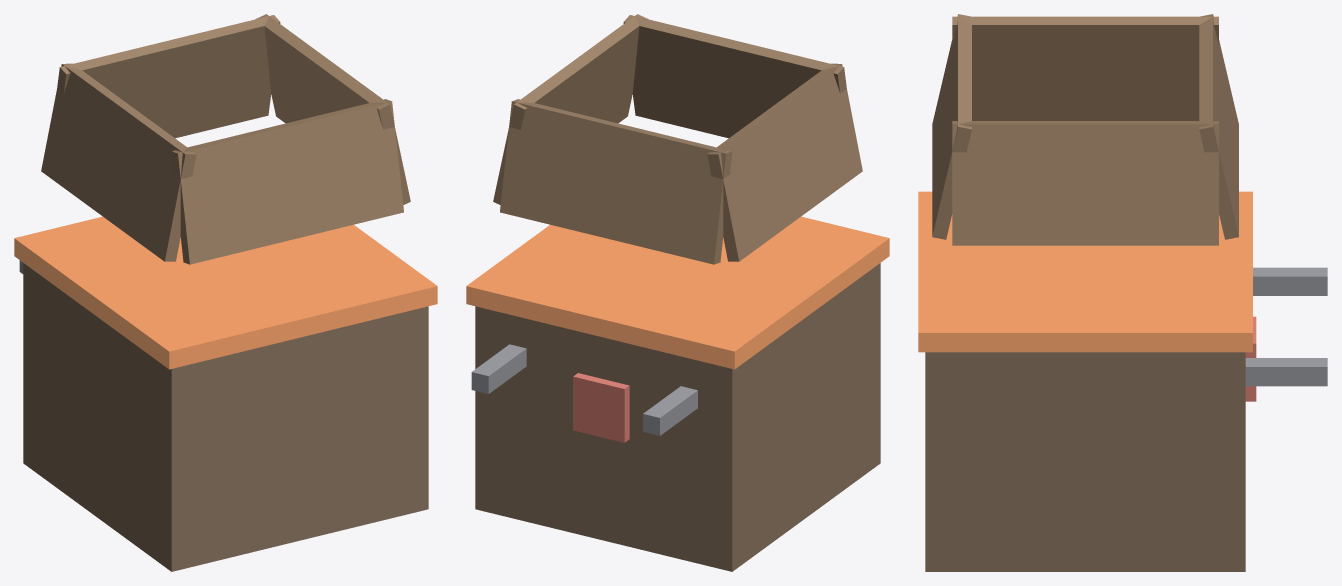
File: build_assembler.glb
3 renders of one model, left to right at view 1: azimuth 30°, elevation 25°; view 2: azimuth 150°, elevation 25°; view 3: azimuth 270°, elevation 25°, orthographic. The views are drawn at different scales.
Visible parts, largest first — view 1: Baked; view 2: Baked; view 3: Baked.
Part boxes in pixels (bbox=[...]): Baked: bbox=[14, 14, 437, 571]; Baked: bbox=[466, 14, 889, 571]; Baked: bbox=[918, 14, 1327, 571].
Bounding box in the file's own units: 0.94 × 1.35 × 1.15.
